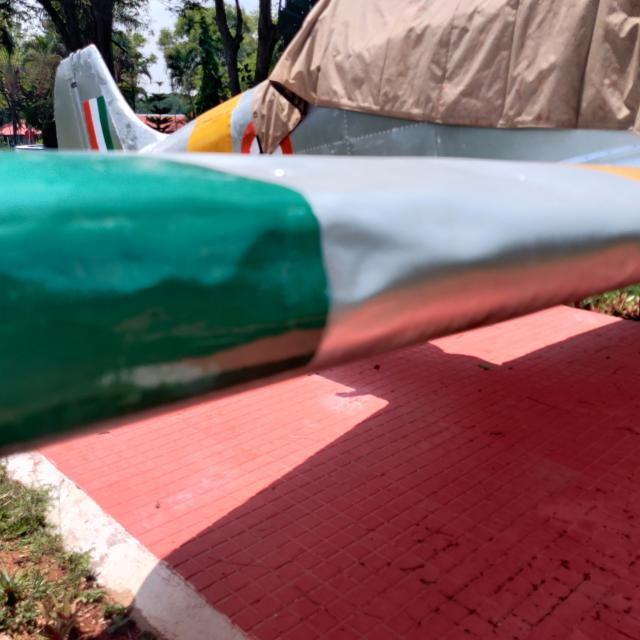dent: (215, 200, 444, 335)
